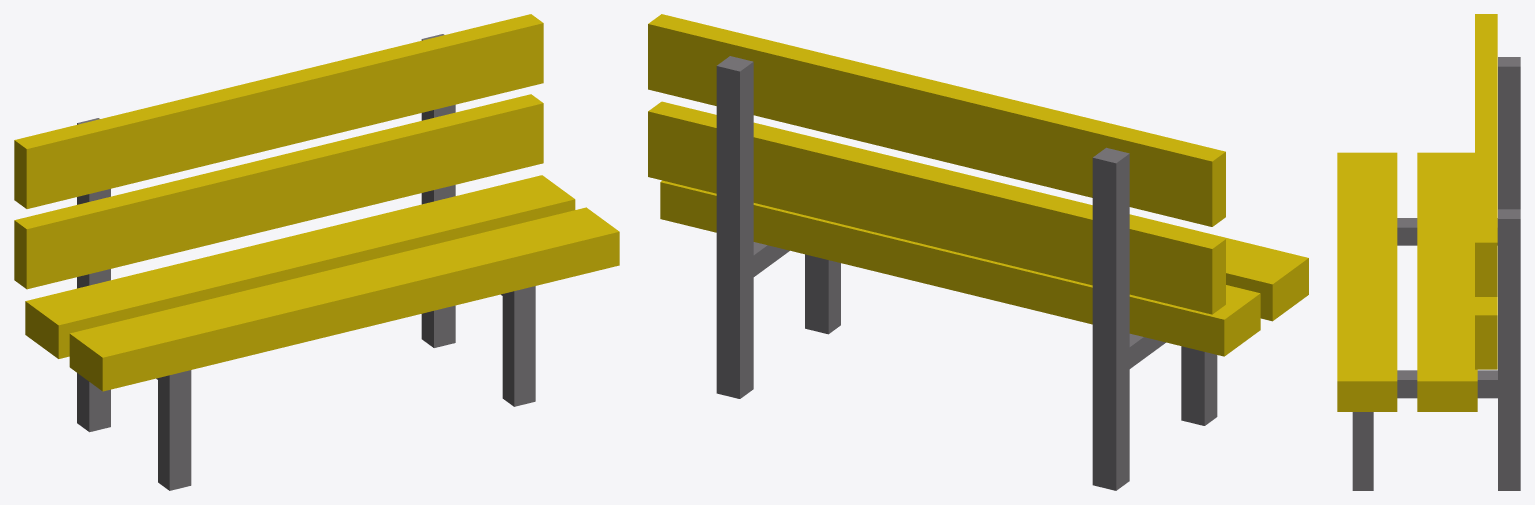
File: bench.fbx
3 renders of one model, left to right at view 1: azimuth 30°, elevation 25°; view 2: azimuth 150°, elevation 25°; view 3: azimuth 270°, elevation 25°, orthographic. The views are drawn at different scales.
Visible parts, largest first — view 1: bench, bench feet; view 2: bench, bench feet; view 3: bench, bench feet.
Part boxes in pixels (x1,y1,x2,y2): bench: [14, 14, 619, 391]; bench feet: [77, 34, 535, 490]; bench: [648, 14, 1308, 356]; bench feet: [716, 56, 1217, 490]; bench: [1337, 14, 1497, 411]; bench feet: [1352, 57, 1520, 490].
Size of the model in its own units: 300 by 172 by 102.
